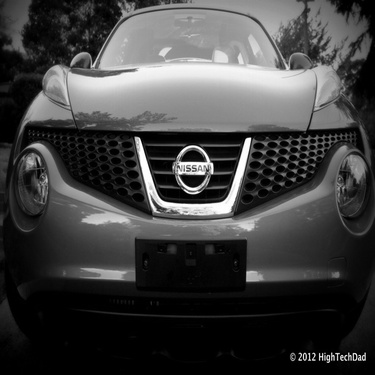car: (4, 4, 372, 358)
